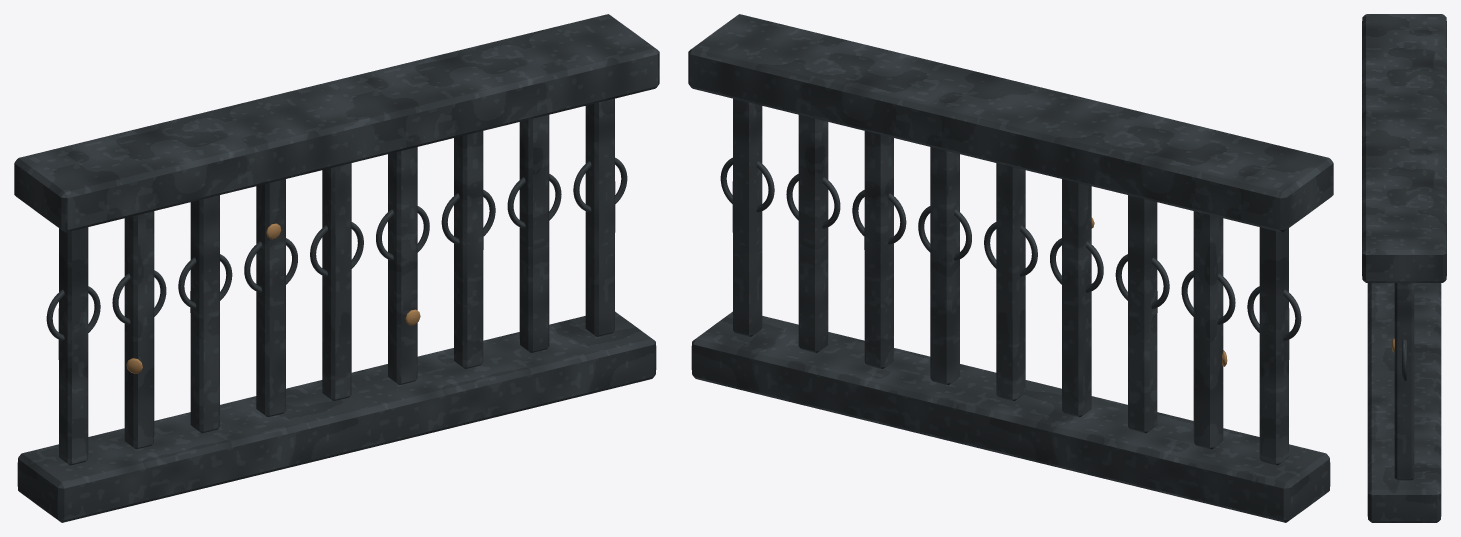
3 renders of one model, left to right at view 1: azimuth 30°, elevation 25°; view 2: azimuth 150°, elevation 25°; view 3: azimuth 270°, elevation 25°, orthographic. The views are drawn at different scales.
Parts seen in each view (by area): view 1: gunmetal-cast-iron; view 2: gunmetal-cast-iron; view 3: gunmetal-cast-iron.
Boxes of the visible parts, x1=… form: gunmetal-cast-iron: x1=14, y1=14, x2=659, y2=522; gunmetal-cast-iron: x1=688, y1=14, x2=1333, y2=522; gunmetal-cast-iron: x1=1362, y1=14, x2=1446, y2=522.
Bounding box in the file's own units: 2 × 1.07 × 0.3.
Materials: 2 (1 with a texture image).
